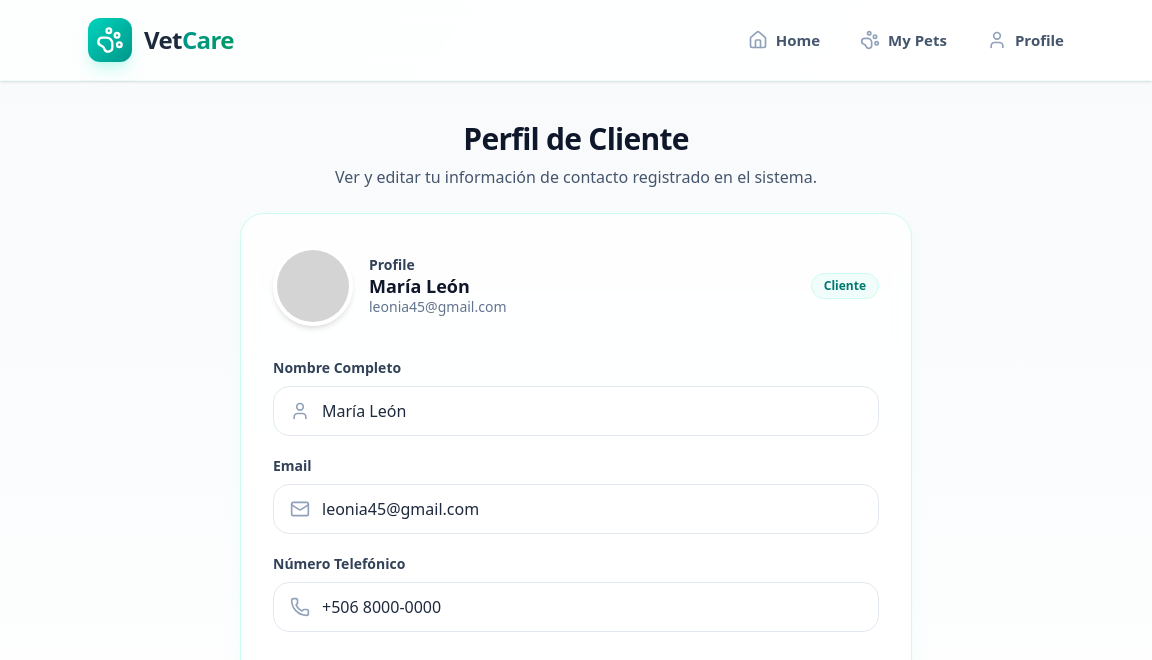
it: Client Profile › should save changes
Replace the text in the field below "Nombre Completo" with "Antonio" at (592, 411), box left=322, top=399, right=862, bottom=423
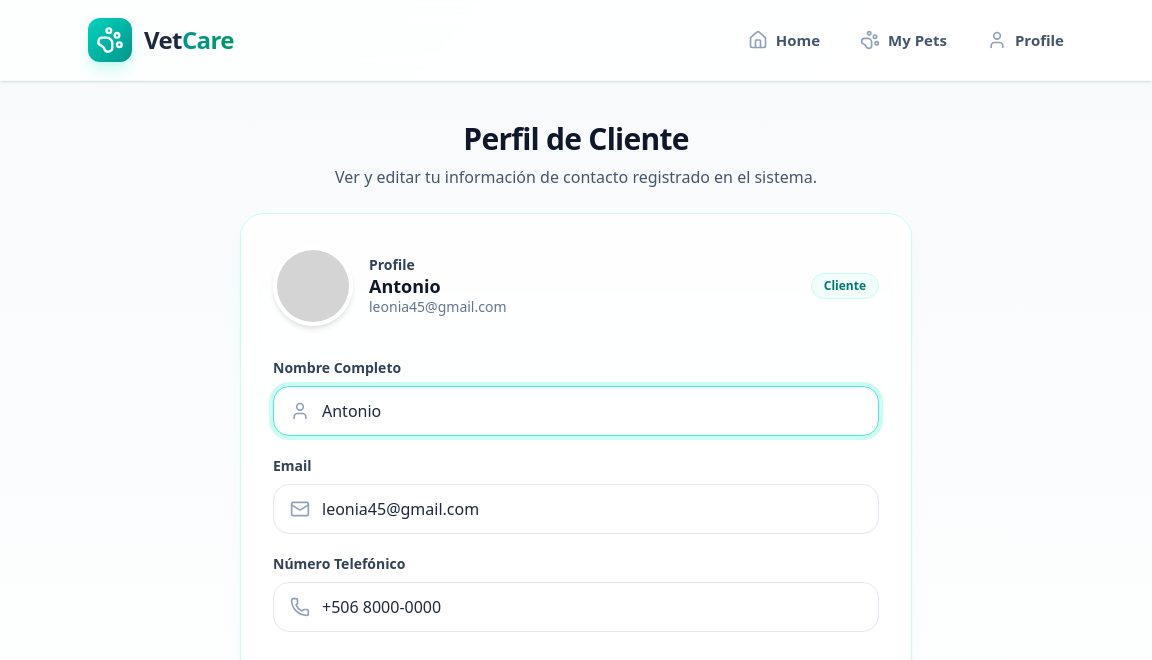
Scroll
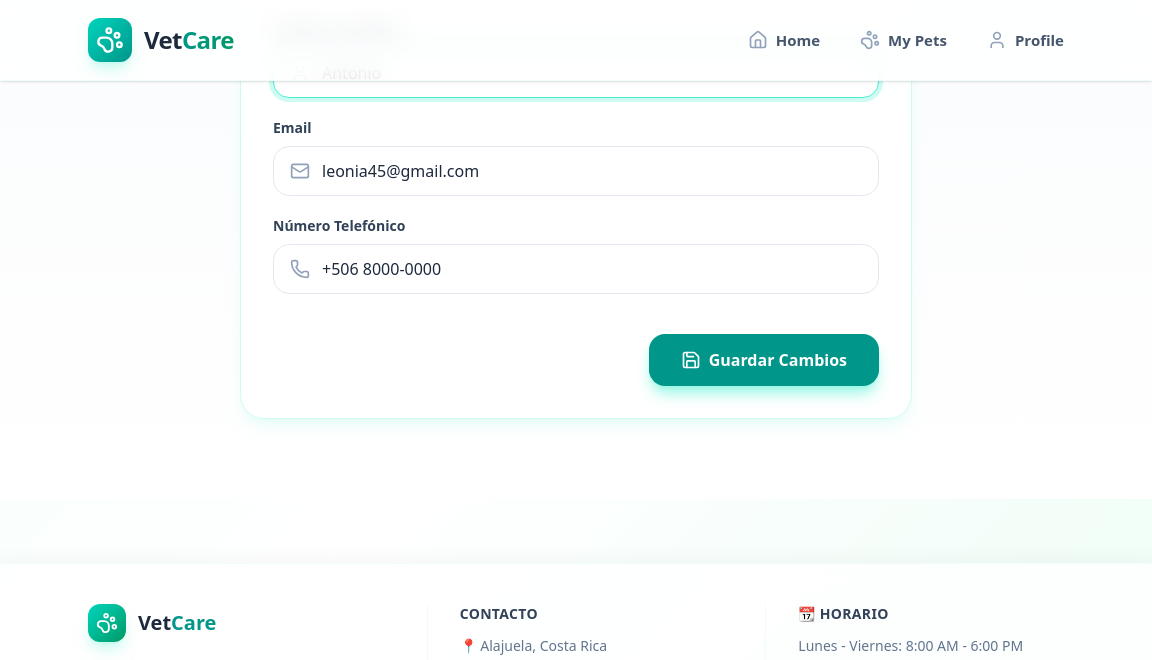
Click the button "Guardar Cambios".
click(764, 360)  # box left=649, top=334, right=879, bottom=386
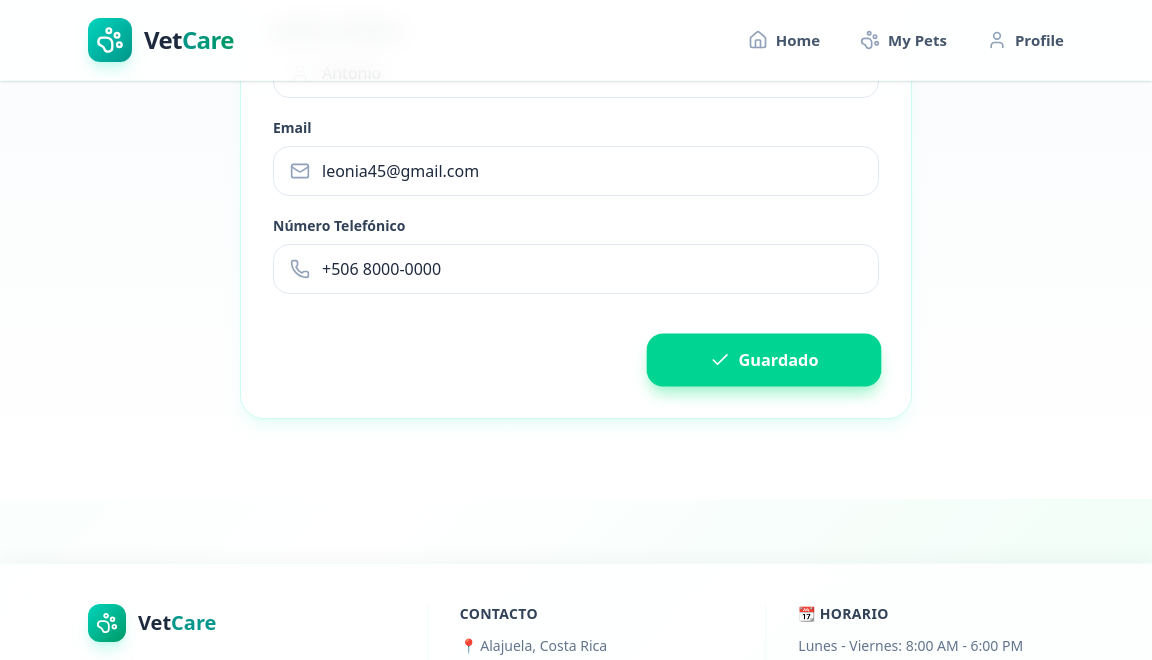
Now the button "Guardado" is shown, box left=646, top=334, right=881, bottom=386
